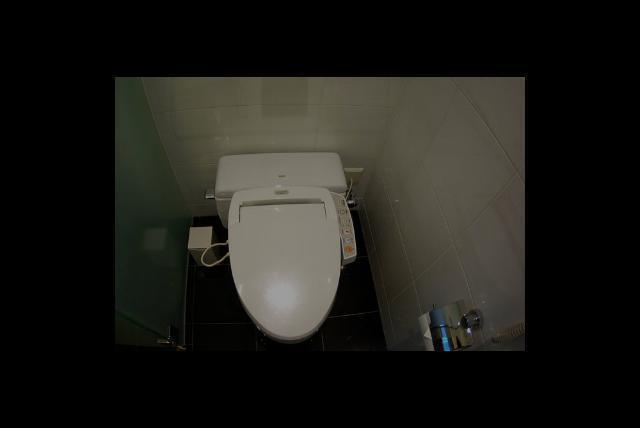Sanitario: (205, 152, 361, 344)
